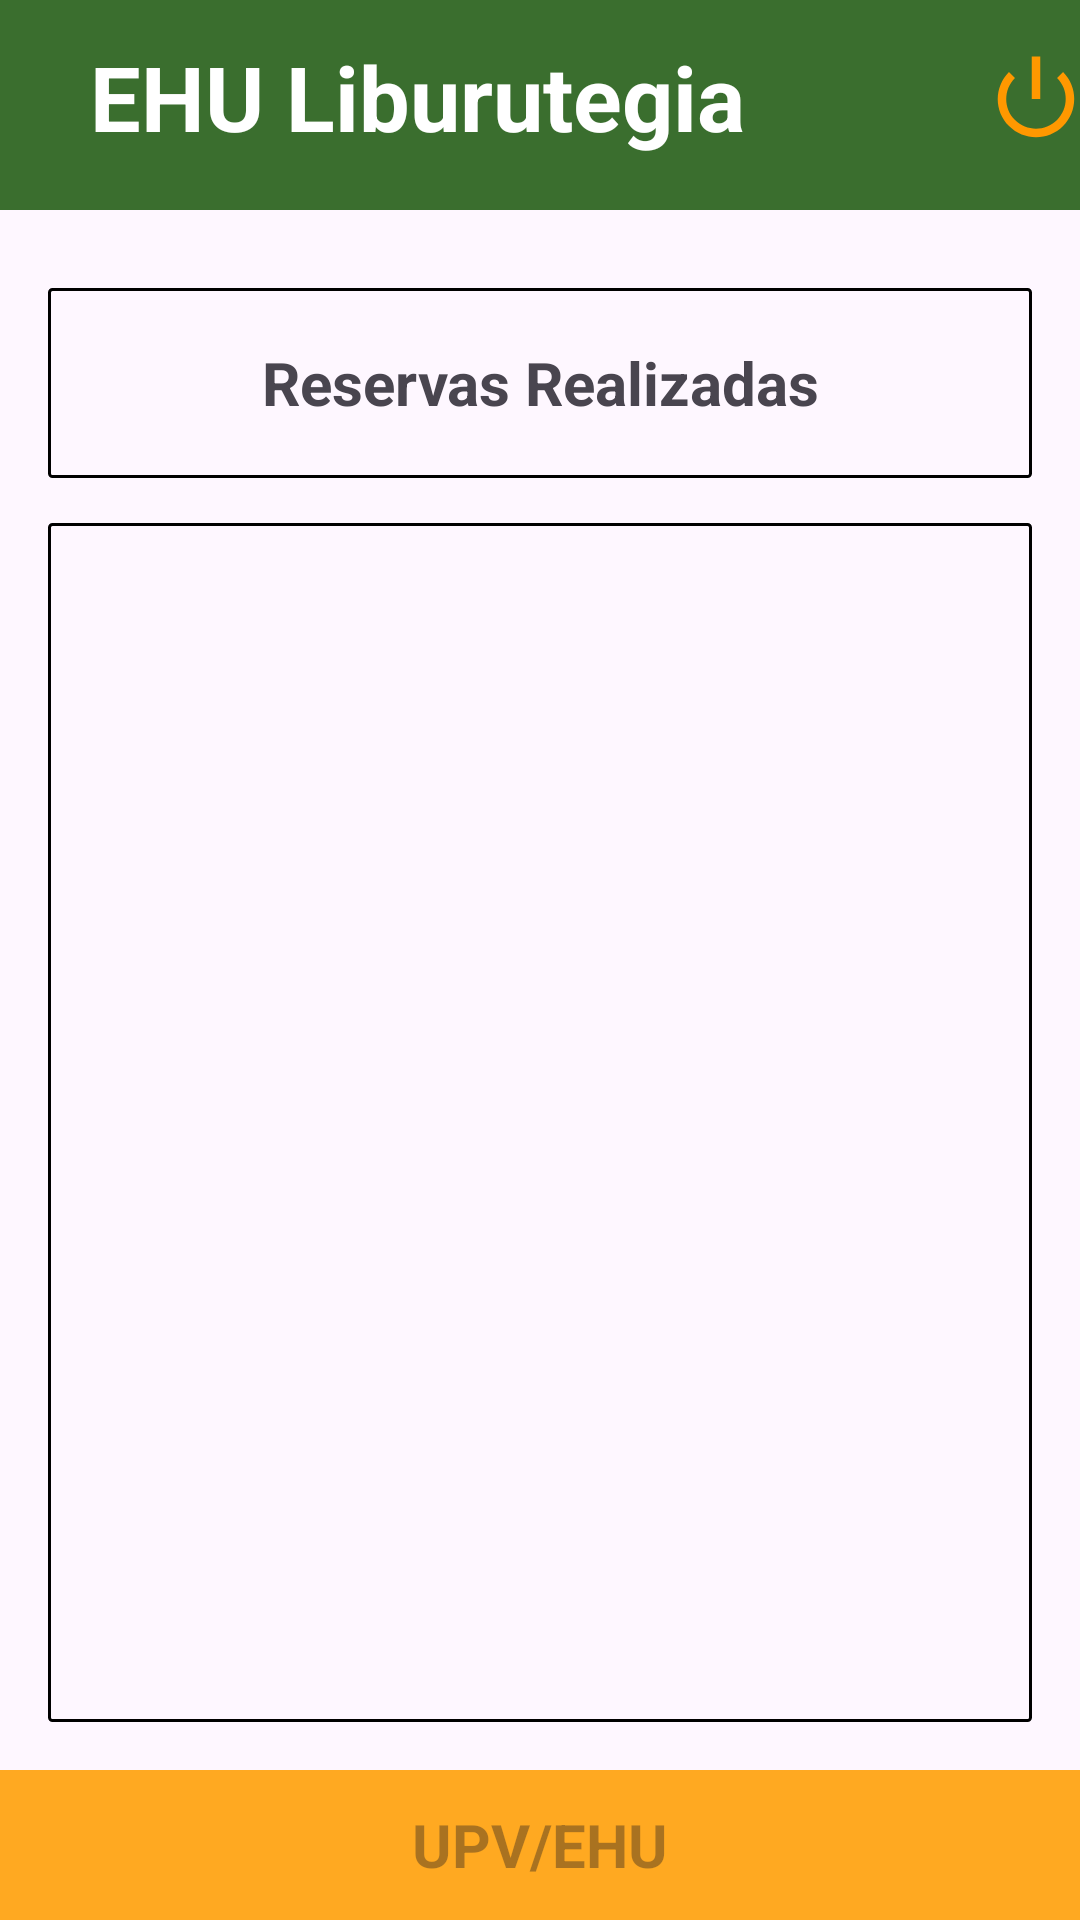

Icon click points for this 1080 x 1920 phone screenshot, format point (x, y):
lock power off: point (1036, 97)
